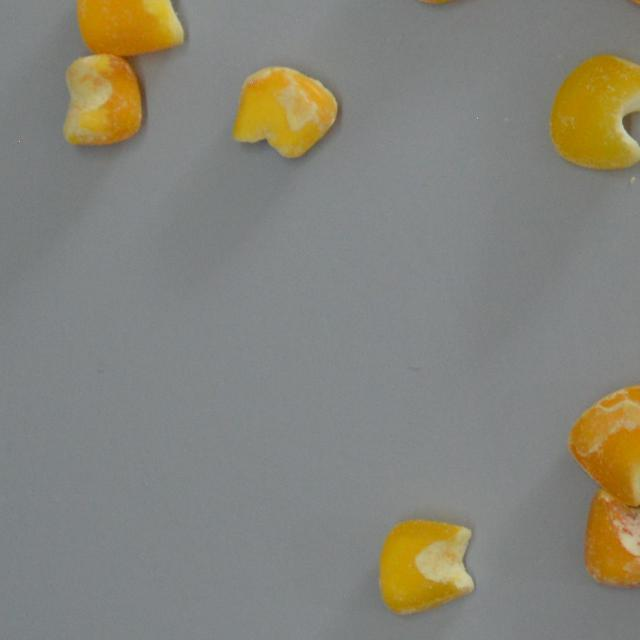pelicula: (548, 51, 640, 170), (230, 62, 338, 160), (377, 517, 474, 615), (568, 384, 640, 506), (61, 52, 142, 148), (579, 484, 640, 590), (76, 0, 184, 56)
